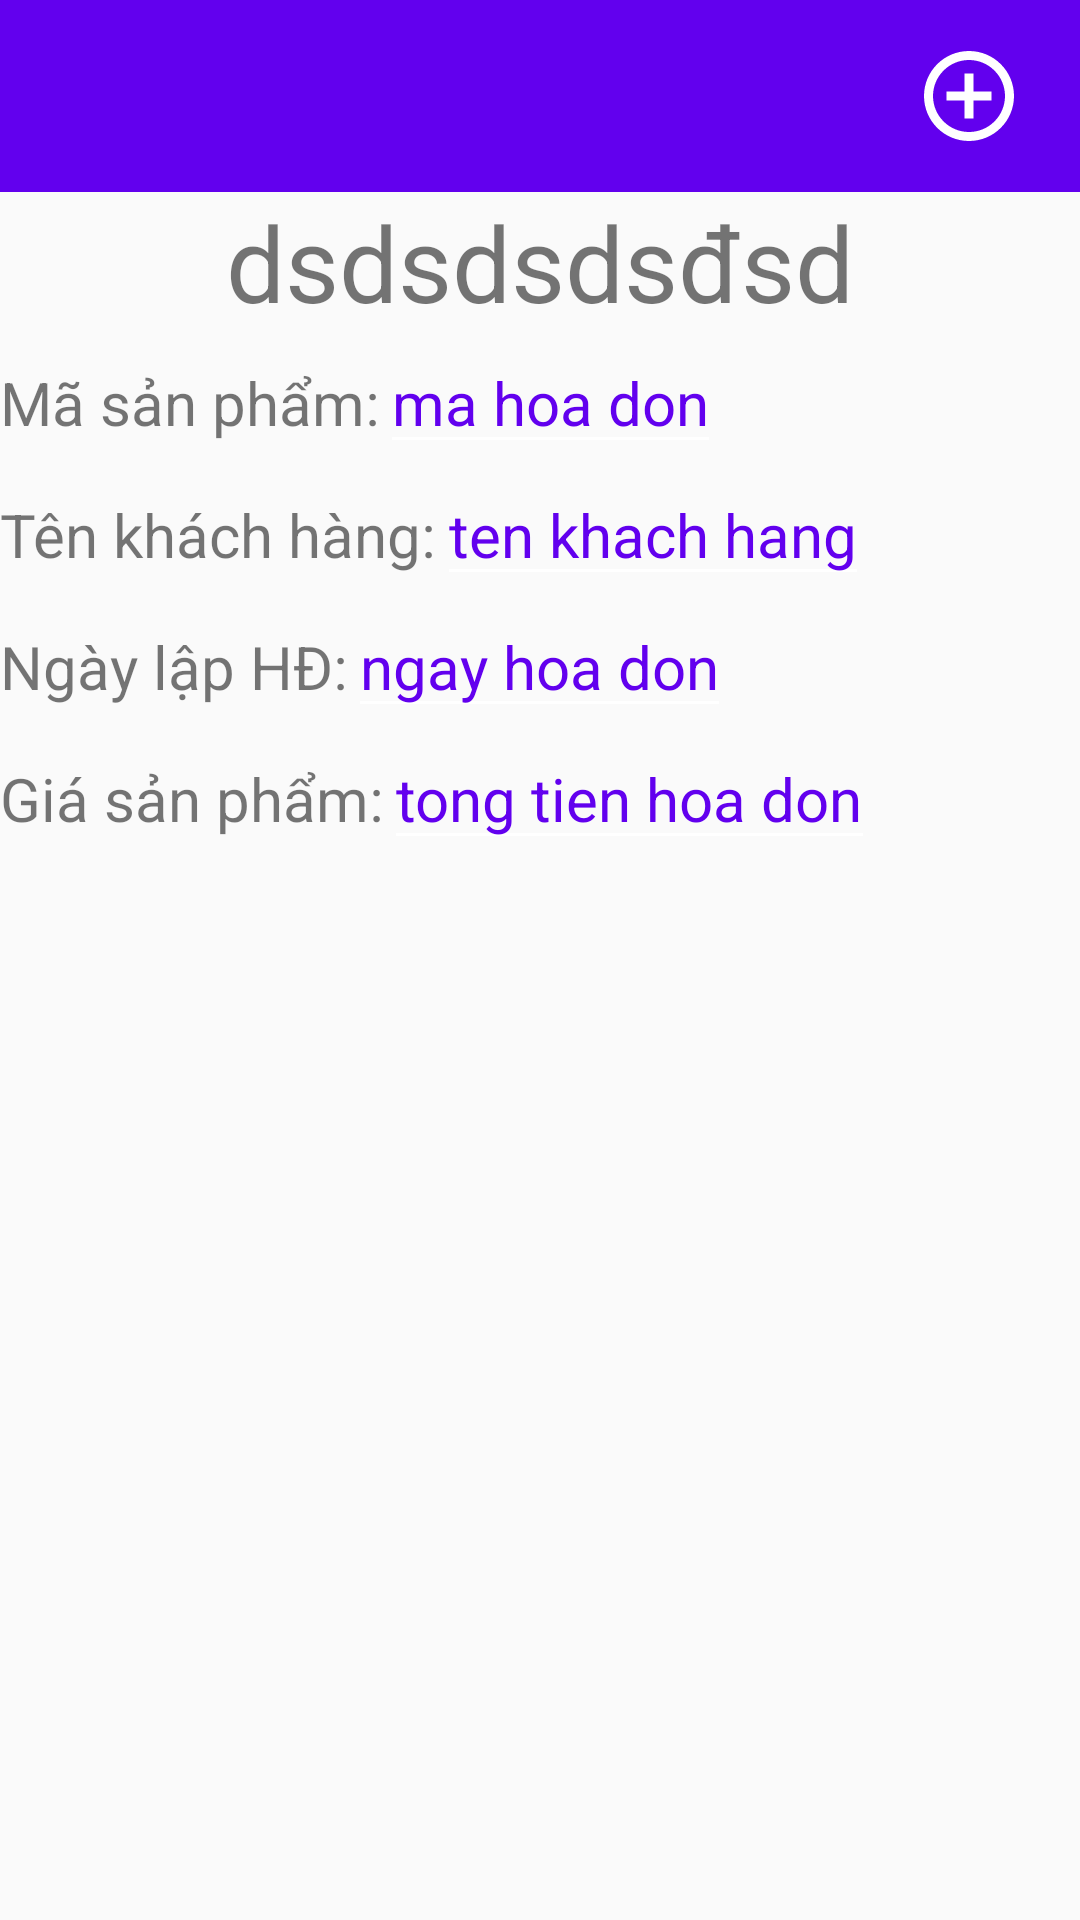

Icon bounding boxes for this 1080 x 1920 phone screenshot, format (x1, y1, x2, y2):
add circle: (924, 51, 1014, 141)
